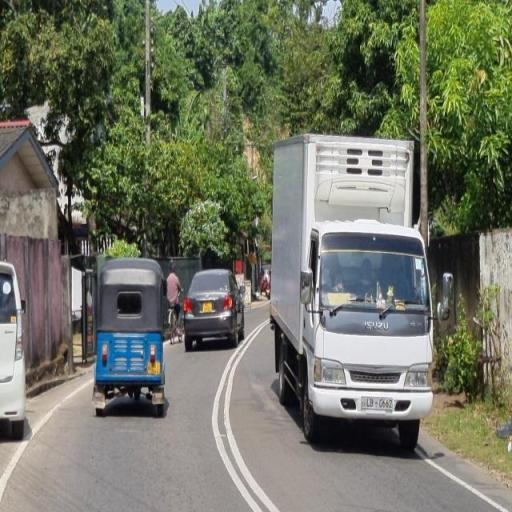double_white_line: (210, 318, 274, 510)
